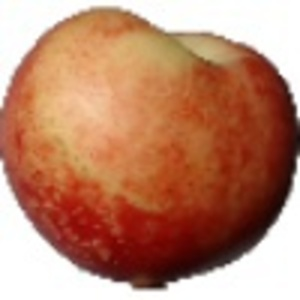nectarina: (1, 3, 300, 293)
